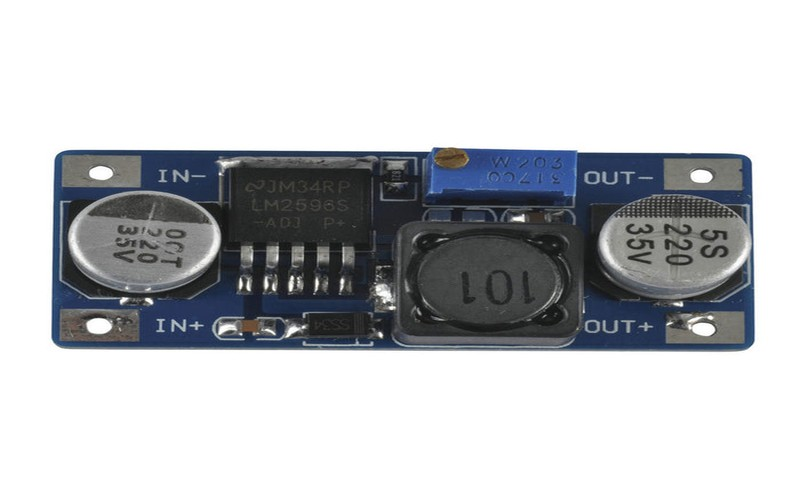Regulator: (31, 124, 760, 364)
